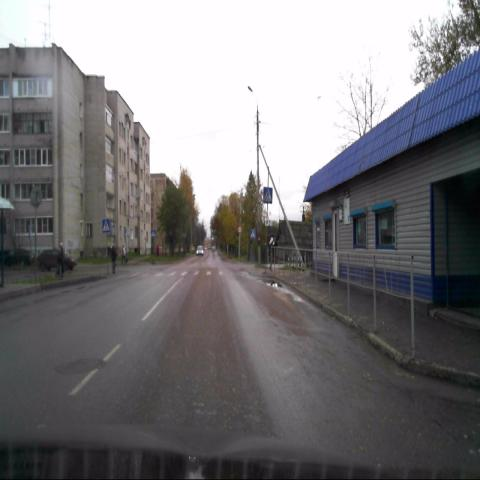5_19_1: (262, 186, 272, 204), (102, 218, 110, 232)
